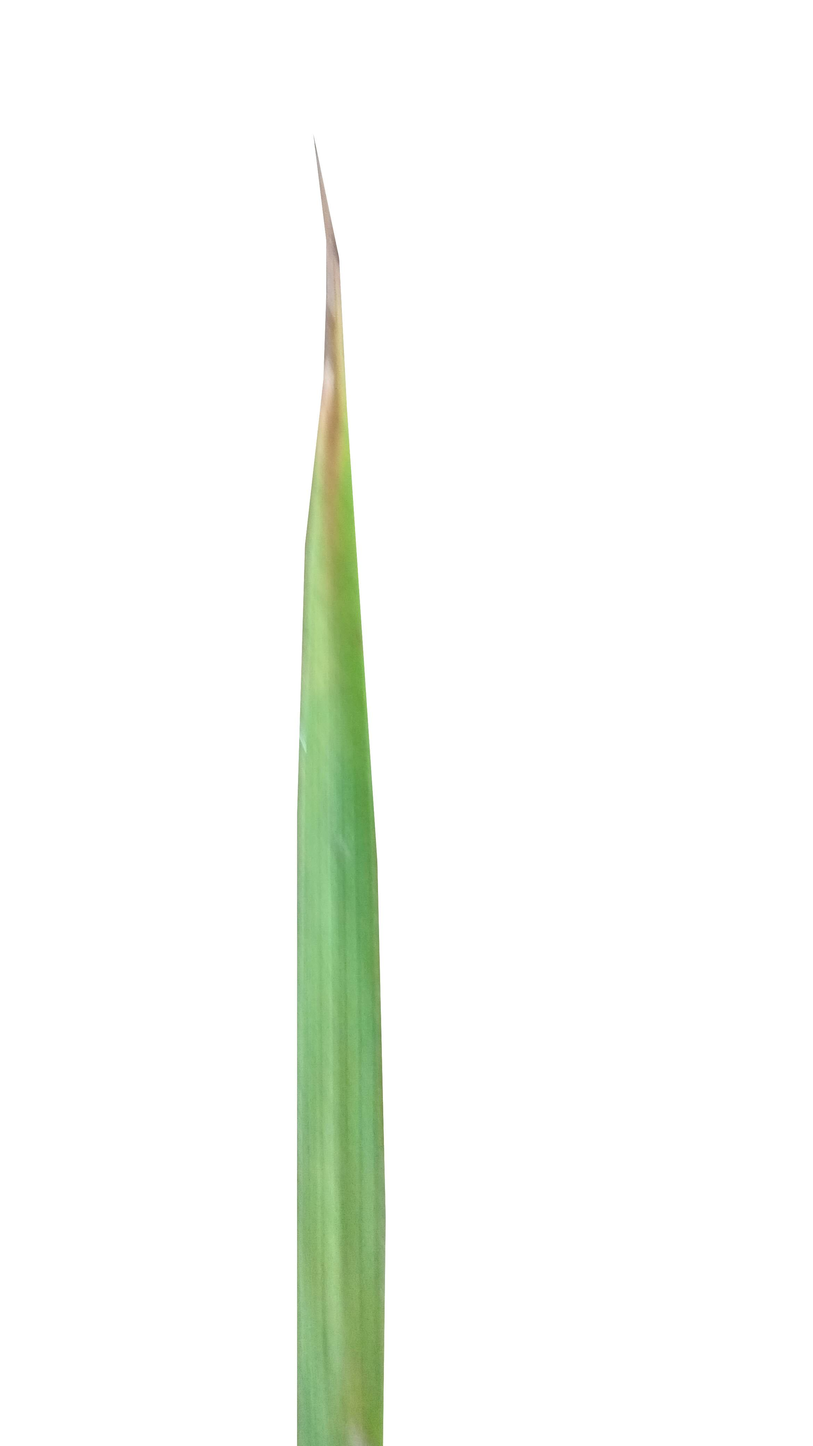Tungro: (304, 309, 374, 771)
